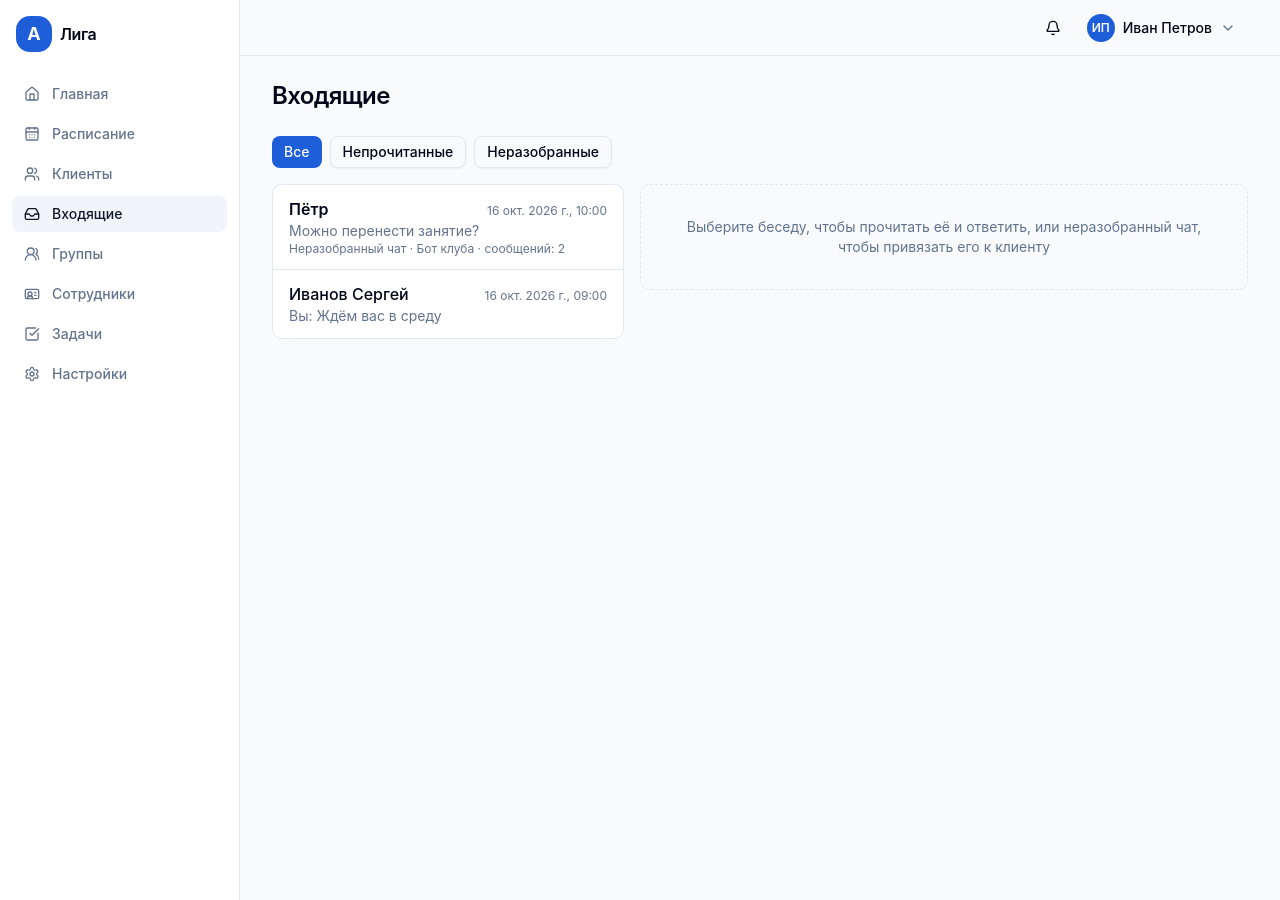
Test: входящие › поиск клиента предзаполнен присланным номером
Click the button "Пётр": (448, 227) [273,185,623,269]
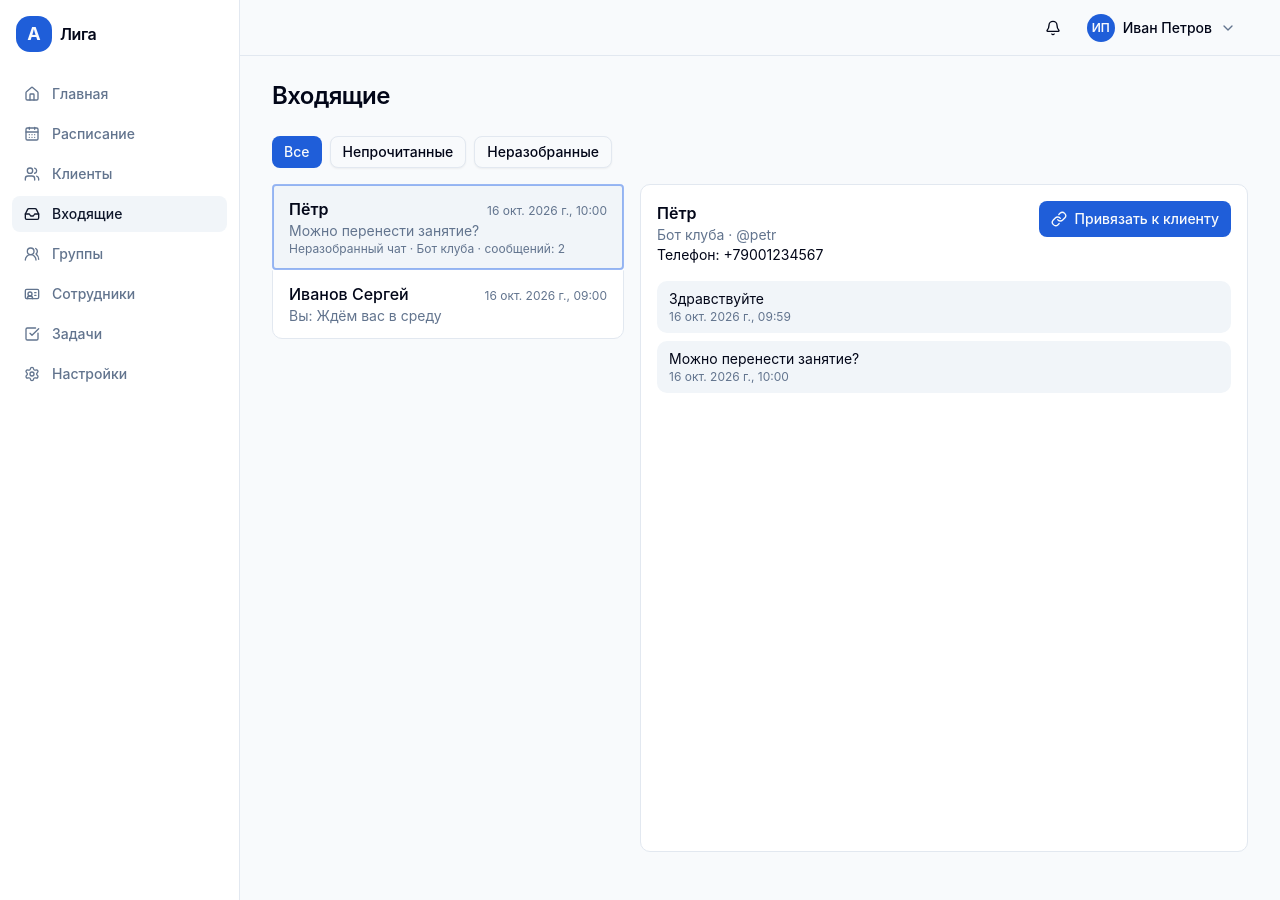
Expected: the text "Здравствуйте" is shown, [669,290,764,307]
Click the button "Привязать к клиенту": (1135, 219) [1039,201,1231,237]
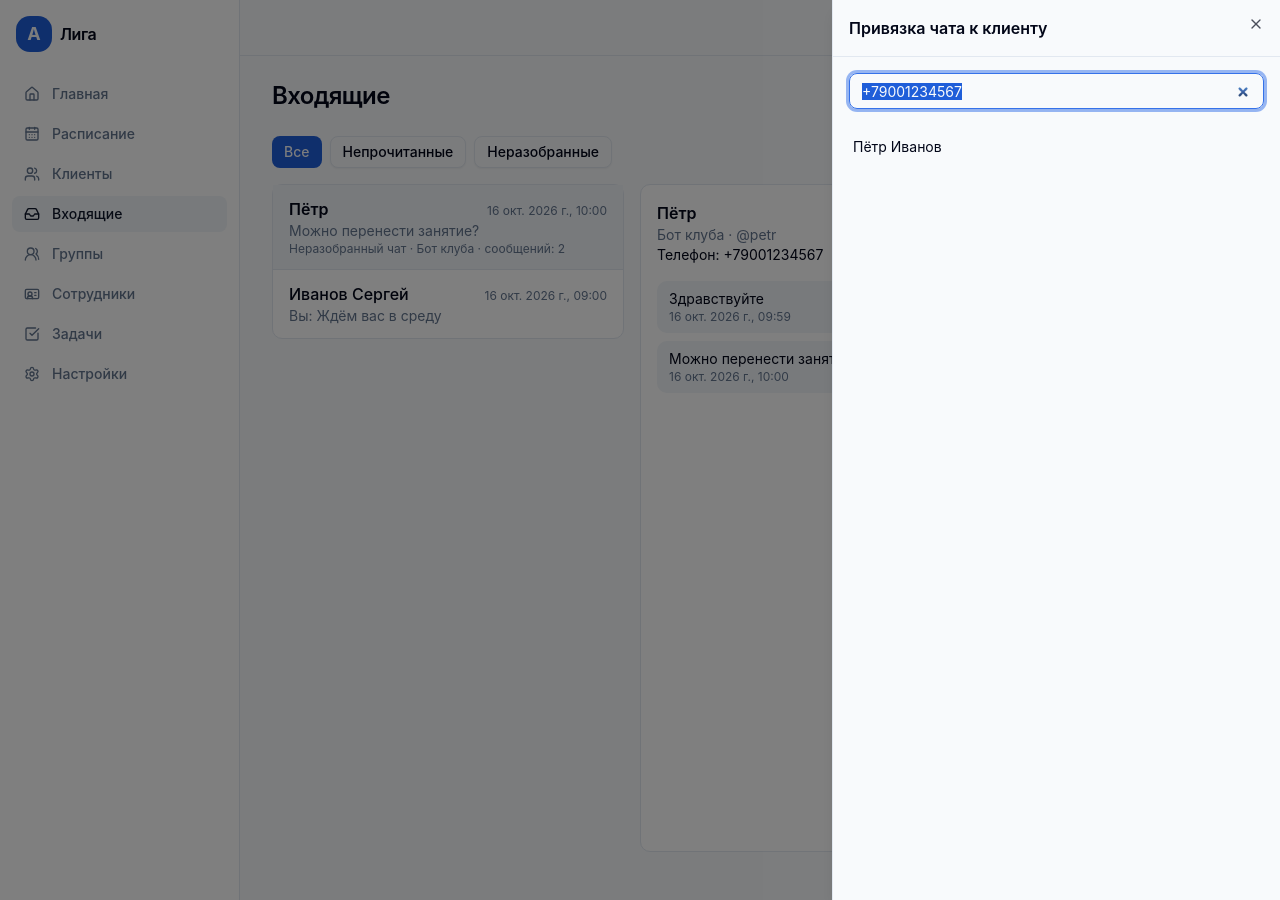
Expected: the search field named "Поиск по имени или телефону" holds "+79001234567", [849,73,1264,109]
